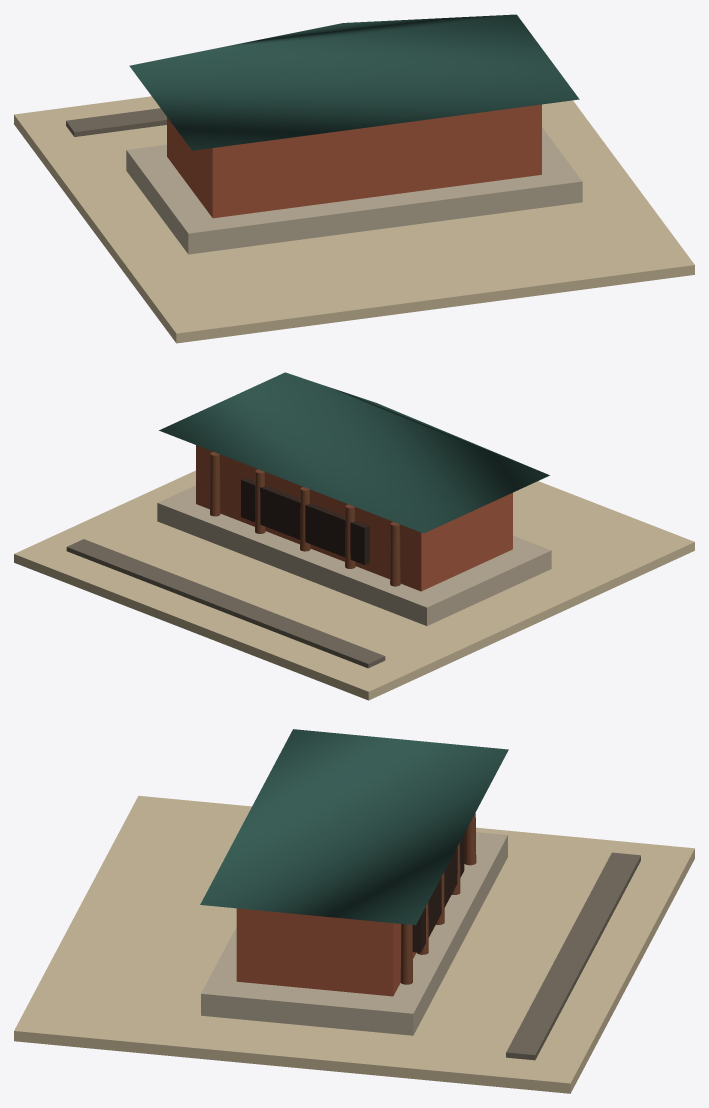
Rendered from model-medium.glb.
3 views of the same model, one above another, from view 1: azimuth 30°, elevation 25°; view 2: azimuth 150°, elevation 25°; view 3: azimuth 270°, elevation 25° (orthographic). The views are drawn at different scales.
Visible parts, largest first — view 1: context_site_plinth, sweeping_tiled_roof, main_hall_wall_volume, raised_ceremonial_platform, front_scale_strip; view 2: context_site_plinth, sweeping_tiled_roof, raised_ceremonial_platform, main_hall_wall_volume, front_scale_strip, central_shadow_door, front_column_1, front_column_5; view 3: context_site_plinth, sweeping_tiled_roof, raised_ceremonial_platform, main_hall_wall_volume, front_scale_strip, central_shadow_door, front_column_5.
Boxes of the visible parts, x1=… form: context_site_plinth: x1=14, y1=96, x2=694, y2=343; sweeping_tiled_roof: x1=129, y1=14, x2=579, y2=150; main_hall_wall_volume: x1=167, y1=104, x2=541, y2=218; raised_ceremonial_platform: x1=126, y1=127, x2=582, y2=254; front_scale_strip: x1=66, y1=108, x2=166, y2=136; context_site_plinth: x1=14, y1=470, x2=694, y2=700; sweeping_tiled_roof: x1=159, y1=372, x2=549, y2=533; raised_ceremonial_platform: x1=157, y1=485, x2=551, y2=625; main_hall_wall_volume: x1=196, y1=445, x2=512, y2=591; front_scale_strip: x1=66, y1=539, x2=385, y2=668; central_shadow_door: x1=241, y1=477, x2=369, y2=564; front_column_1: x1=390, y1=522, x2=400, y2=586; front_column_5: x1=210, y1=452, x2=220, y2=516; context_site_plinth: x1=14, y1=795, x2=694, y2=1093; sweeping_tiled_roof: x1=200, y1=729, x2=508, y2=925; raised_ceremonial_platform: x1=201, y1=832, x2=507, y2=1035; main_hall_wall_volume: x1=236, y1=908, x2=416, y2=996; front_scale_strip: x1=506, y1=852, x2=640, y2=1060; central_shadow_door: x1=412, y1=834, x2=464, y2=952; front_column_5: x1=400, y1=924, x2=412, y2=984.
Bounding box in the file's own units: 9.55 × 2.62 × 9.55.
